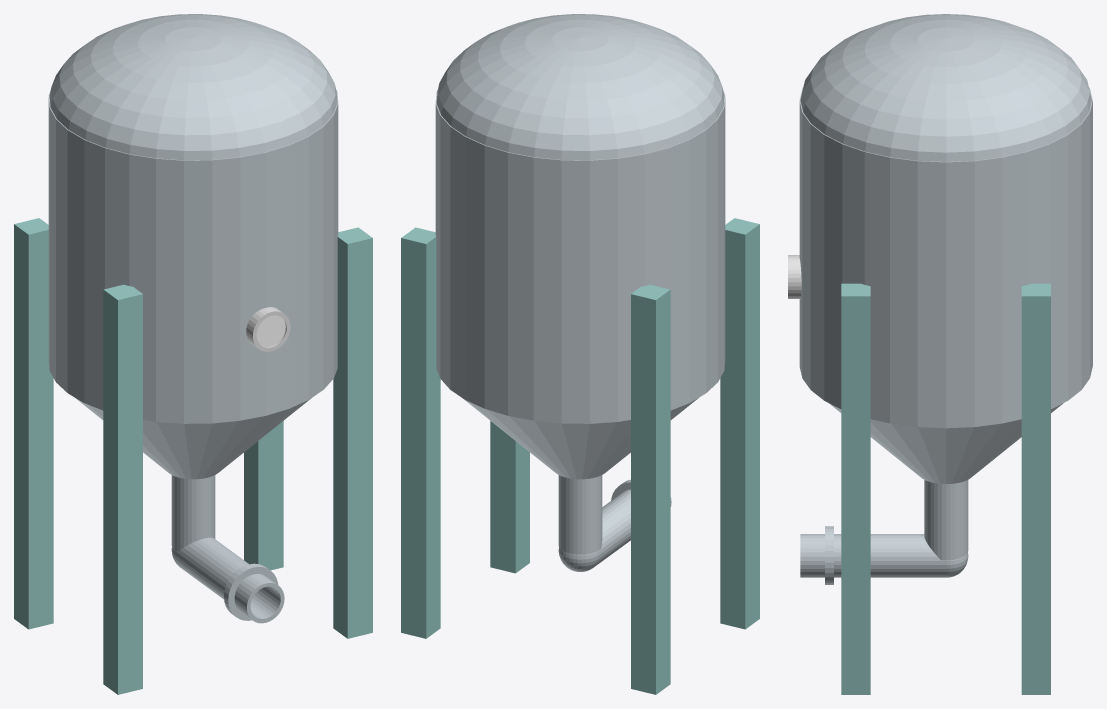
The model's file is Fermeter.fbx.
3 views of the same model, side by side, from view 1: azimuth 30°, elevation 25°; view 2: azimuth 150°, elevation 25°; view 3: azimuth 270°, elevation 25° (orthographic).
Visible parts, largest first — view 1: MainBody, TopLid, Leg3, Leg1, Leg4, BottomCone, Leg2, pipeHor, PipeVert, Cylinder, thermo, dial; view 2: MainBody, TopLid, Leg4, Leg2, Leg3, BottomCone, Leg1, PipeVert, pipeHor, PipeJoint; view 3: MainBody, TopLid, Leg1, Leg2, BottomCone, pipeHor, PipeVert, thermo, Cylinder.
Part boxes in pixels (box(x1,y1,x2,y2)): MainBody: box(48, 89, 338, 423); TopLid: box(49, 14, 337, 160); Leg3: box(103, 284, 142, 694); Leg1: box(333, 227, 372, 638); Leg4: box(14, 218, 53, 629); BottomCone: box(75, 398, 311, 479); Leg2: box(244, 421, 283, 570); pipeHor: box(174, 537, 284, 623); PipeVert: box(171, 475, 215, 551); Cylinder: box(224, 563, 278, 620); thermo: box(246, 307, 290, 351); dial: box(256, 315, 285, 346); MainBody: box(435, 89, 725, 423); TopLid: box(436, 14, 724, 160); Leg4: box(631, 284, 670, 694); Leg2: box(401, 227, 440, 638); Leg3: box(720, 218, 759, 629); BottomCone: box(462, 398, 698, 479); Leg1: box(490, 421, 529, 573); PipeVert: box(558, 475, 602, 554); pipeHor: box(594, 489, 671, 566); PipeJoint: box(558, 547, 598, 571); MainBody: box(799, 87, 1092, 428); TopLid: box(800, 14, 1091, 161); Leg1: box(841, 283, 870, 694); Leg2: box(1021, 283, 1050, 694); BottomCone: box(829, 403, 1063, 484); pipeHor: box(800, 534, 946, 577); PipeVert: box(924, 480, 968, 560); thermo: box(788, 255, 801, 298); Cylinder: box(825, 526, 833, 584).
Size of the model in its own units: 203 by 447 by 208.
